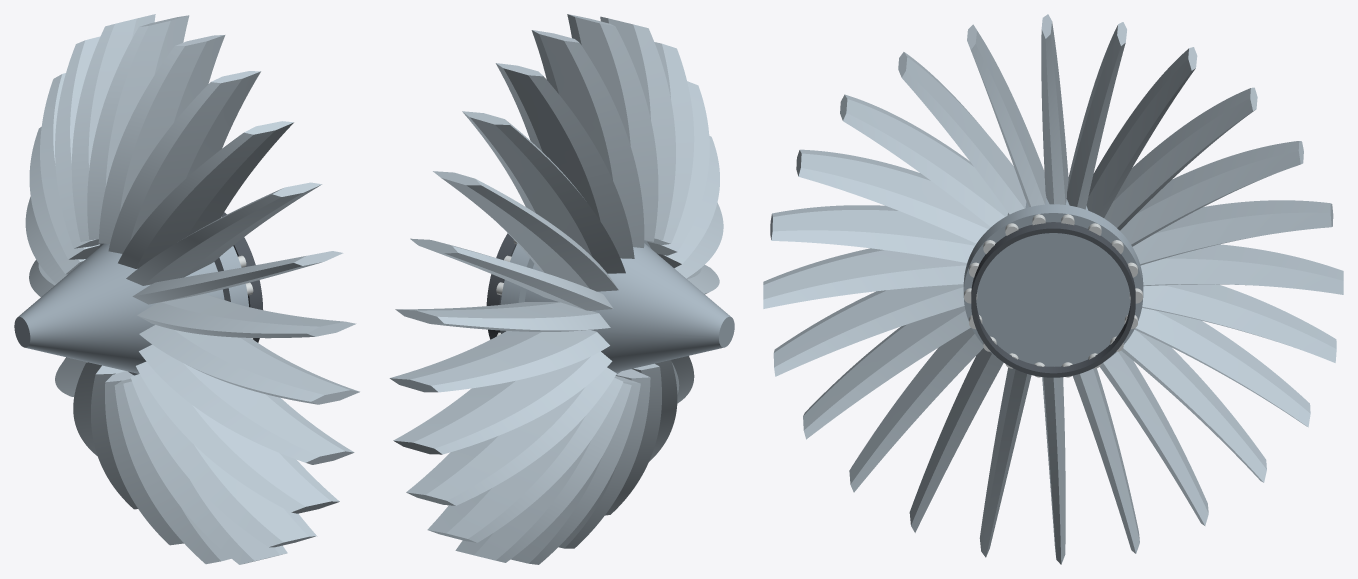
The model's file is fan-blisk.glb.
3 renders of one model, left to right at view 1: azimuth 30°, elevation 25°; view 2: azimuth 150°, elevation 25°; view 3: azimuth 270°, elevation 25°, orthographic. The views are drawn at different scales.
Parts seen in each view (by area): view 1: fan-blisk - blade, fan-blisk - steel, fan-blisk - seal; view 2: fan-blisk - blade, fan-blisk - steel, fan-blisk - seal; view 3: fan-blisk - blade, fan-blisk - steel, fan-blisk - seal, fan-blisk - fastener.
Boxes of the visible parts, bbox=[...] form: fan-blisk - blade: bbox=[25, 14, 359, 564]; fan-blisk - steel: bbox=[14, 243, 248, 375]; fan-blisk - seal: bbox=[221, 212, 262, 342]; fan-blisk - blade: bbox=[389, 14, 723, 564]; fan-blisk - steel: bbox=[500, 240, 734, 374]; fan-blisk - seal: bbox=[486, 233, 516, 339]; fan-blisk - blade: bbox=[763, 14, 1343, 564]; fan-blisk - steel: bbox=[963, 198, 1143, 366]; fan-blisk - seal: bbox=[971, 222, 1135, 377]; fan-blisk - fastener: bbox=[964, 214, 1142, 377].
Size of the model in its own units: 0.88 by 2.1 by 2.1.
